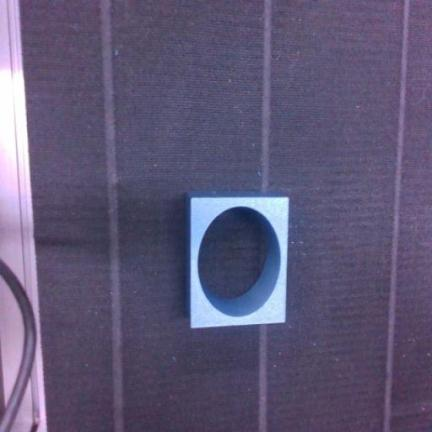hole: (189, 194, 288, 328)
